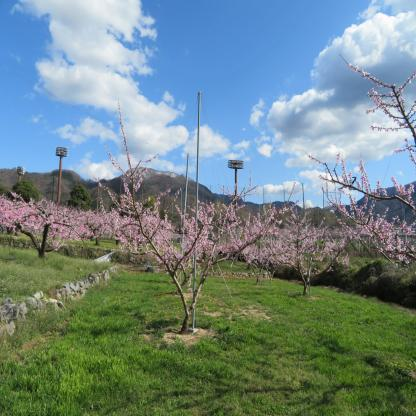Momo: (91, 94, 268, 282), (304, 50, 416, 268), (102, 184, 256, 262), (200, 177, 296, 274), (251, 182, 351, 275), (0, 191, 111, 250)
